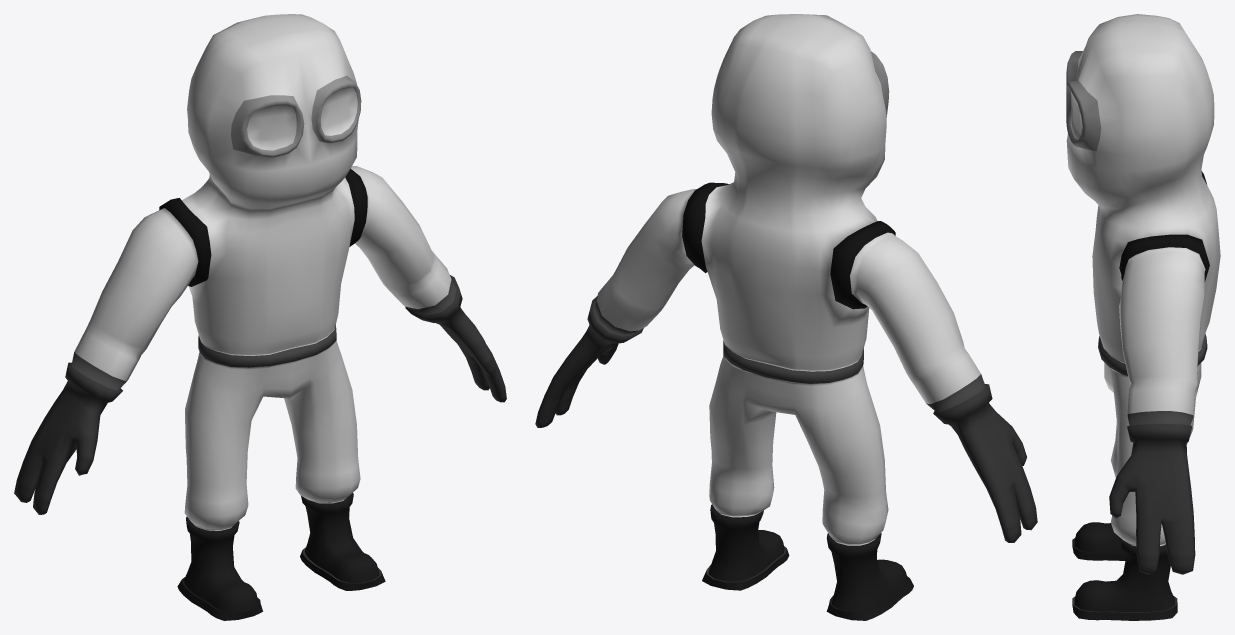
File: Scientist_White_Character.FBX
3 renders of one model, left to right at view 1: azimuth 30°, elevation 25°; view 2: azimuth 150°, elevation 25°; view 3: azimuth 270°, elevation 25°, orthographic. The views are drawn at different scales.
Visible parts, largest first — view 1: Scientist; view 2: Scientist; view 3: Scientist.
Boxes of the visible parts, box(x1,y1,x2,y2) form: Scientist: box(14, 14, 506, 620); Scientist: box(535, 14, 1037, 620); Scientist: box(1066, 14, 1220, 620).
Bounding box in the file's own units: 160 × 181 × 45.87.
1 material, 1 textured.
